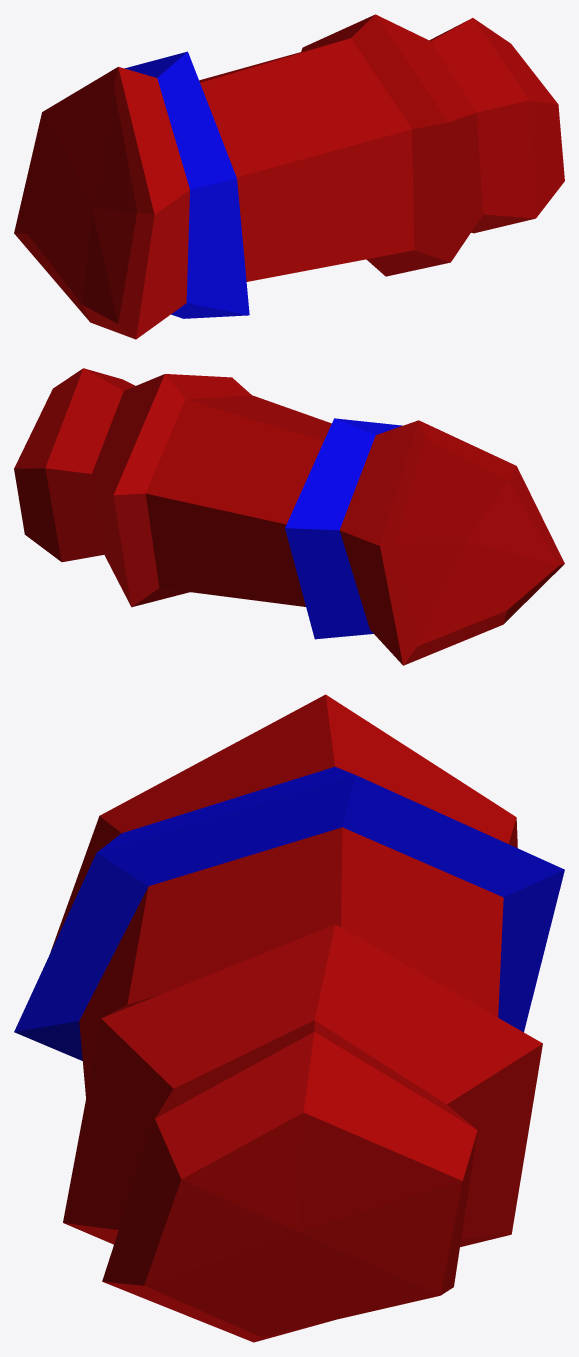
Rendered from Chr_ArmUpperLeft_Male_Static_20.fbx.
3 views of the same model, one above another, from view 1: azimuth 30°, elevation 25°; view 2: azimuth 150°, elevation 25°; view 3: azimuth 270°, elevation 25° (orthographic). The views are drawn at different scales.
Visible parts, largest first — view 1: Chr_ArmUpperLeft_Male_20; view 2: Chr_ArmUpperLeft_Male_20; view 3: Chr_ArmUpperLeft_Male_20.
Boxes of the visible parts, x1=… form: Chr_ArmUpperLeft_Male_20: x1=14, y1=14, x2=564, y2=339; Chr_ArmUpperLeft_Male_20: x1=14, y1=368, x2=564, y2=665; Chr_ArmUpperLeft_Male_20: x1=14, y1=694, x2=564, y2=1342.
Size of the model in its own units: 32.44 by 16.58 by 20.12.
